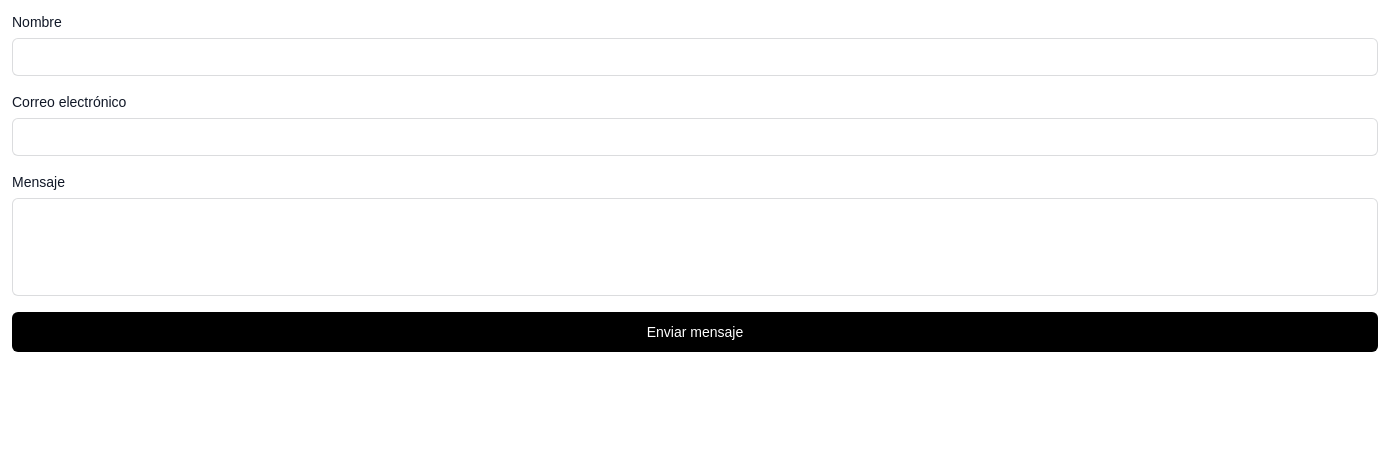
Test: ContactFormSection › shows success alert after a successful submission
The width and height of the screenshot is (1390, 451).
Type "Jane Doe" into the field below "Nombre".
click(695, 57); type("Jane Doe")  # box [12, 38, 1378, 76]
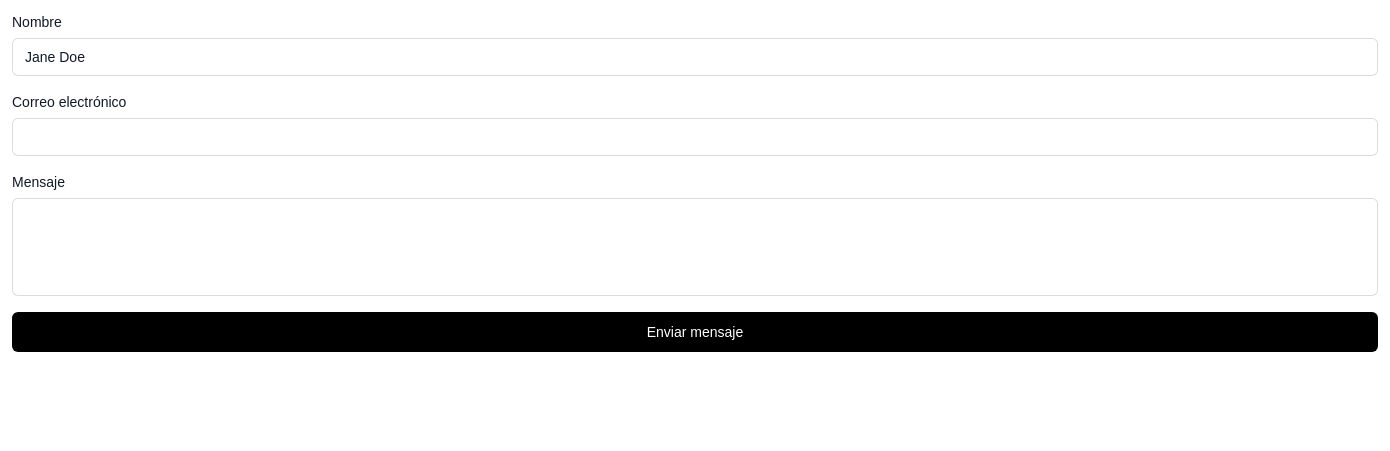
Type "jane@example.com" into the field below "Correo electrónico".
click(695, 137); type("jane@example.com")  # box [12, 118, 1378, 156]
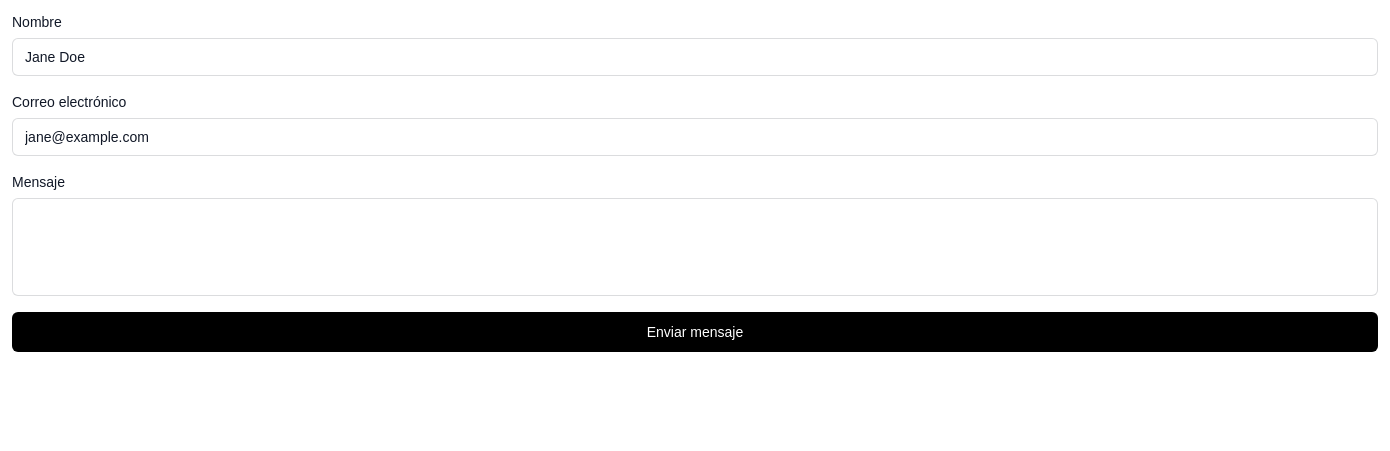
Type "Hello there" into the text box.
click(695, 247); type("Hello there")  # box [12, 198, 1378, 296]
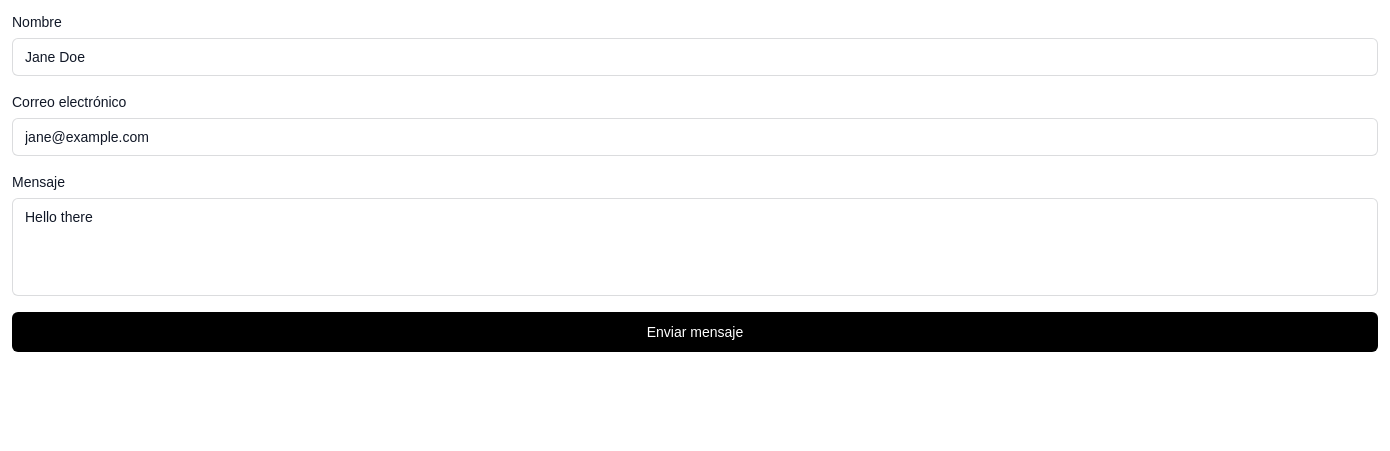
Submit the form
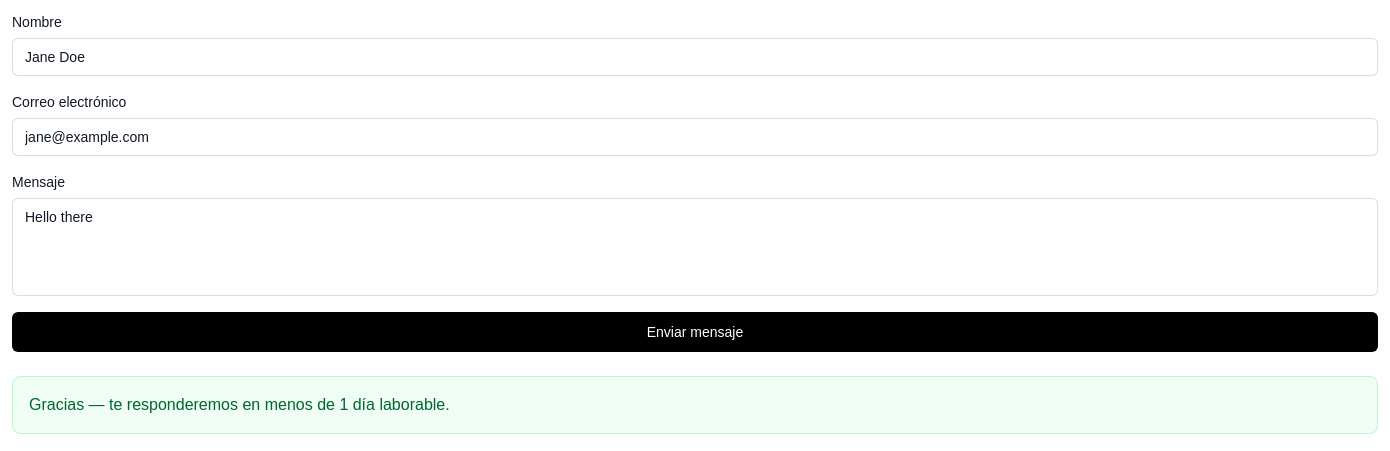
Check: the text "Gracias — te responderemos en menos de 1 día laborable." is shown, box [29, 396, 450, 413]
